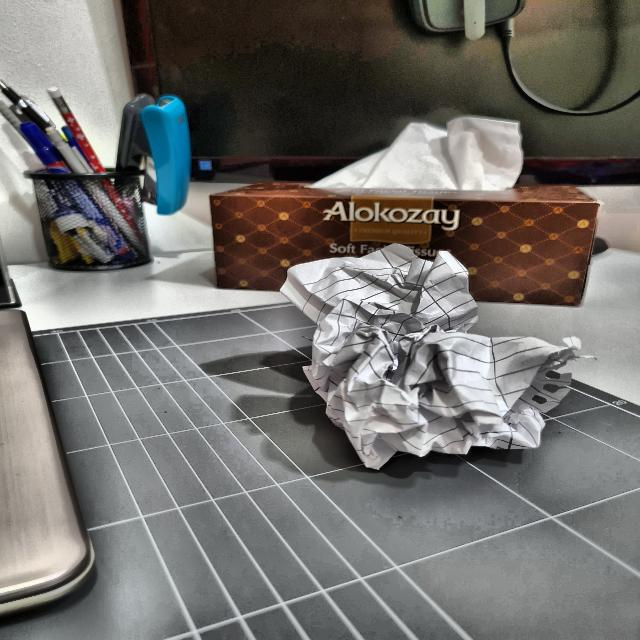Paper: (282, 246, 584, 474)
